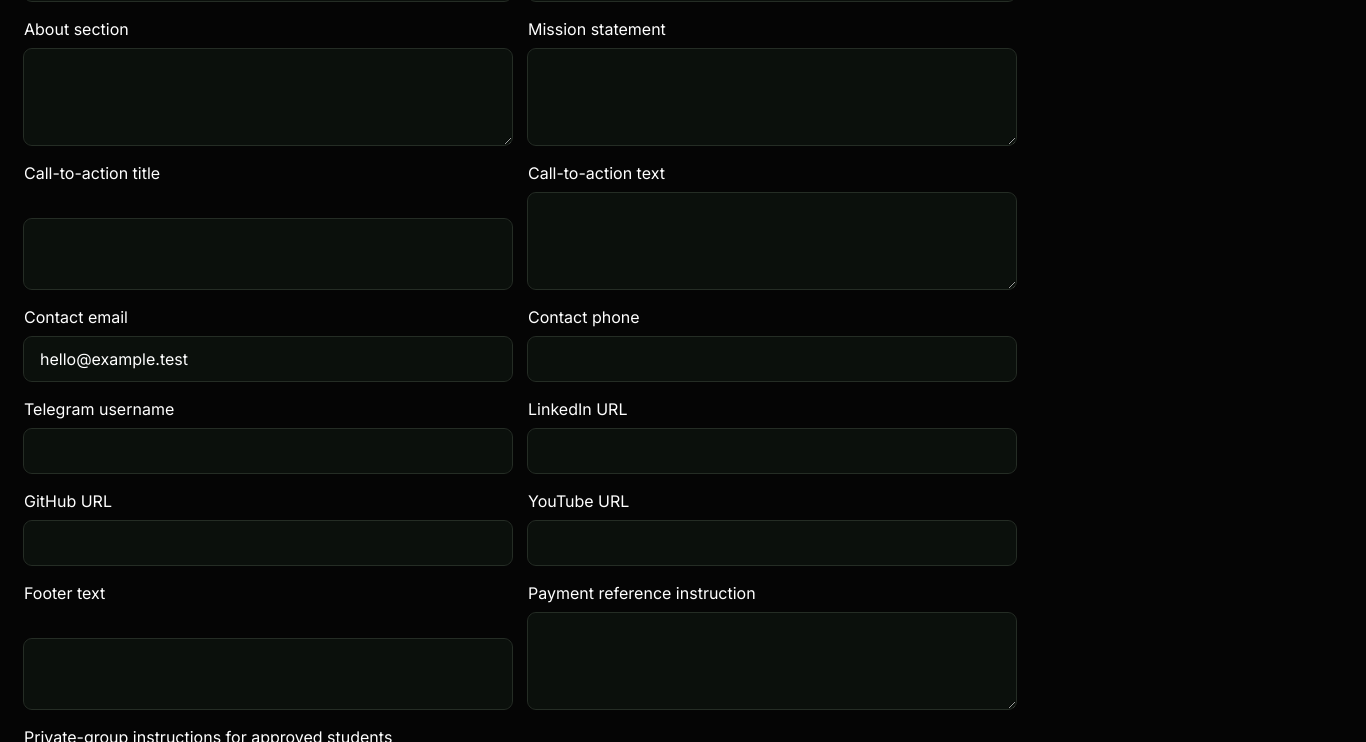
Test: merged admin management › shows management sections in /admin and saves website content
(page scrolled)
Replace the text in the field labelled "Contact email" with "admin@example.test" at (268, 359), box x1=24 y1=337 x2=512 y2=381
(page scrolled)
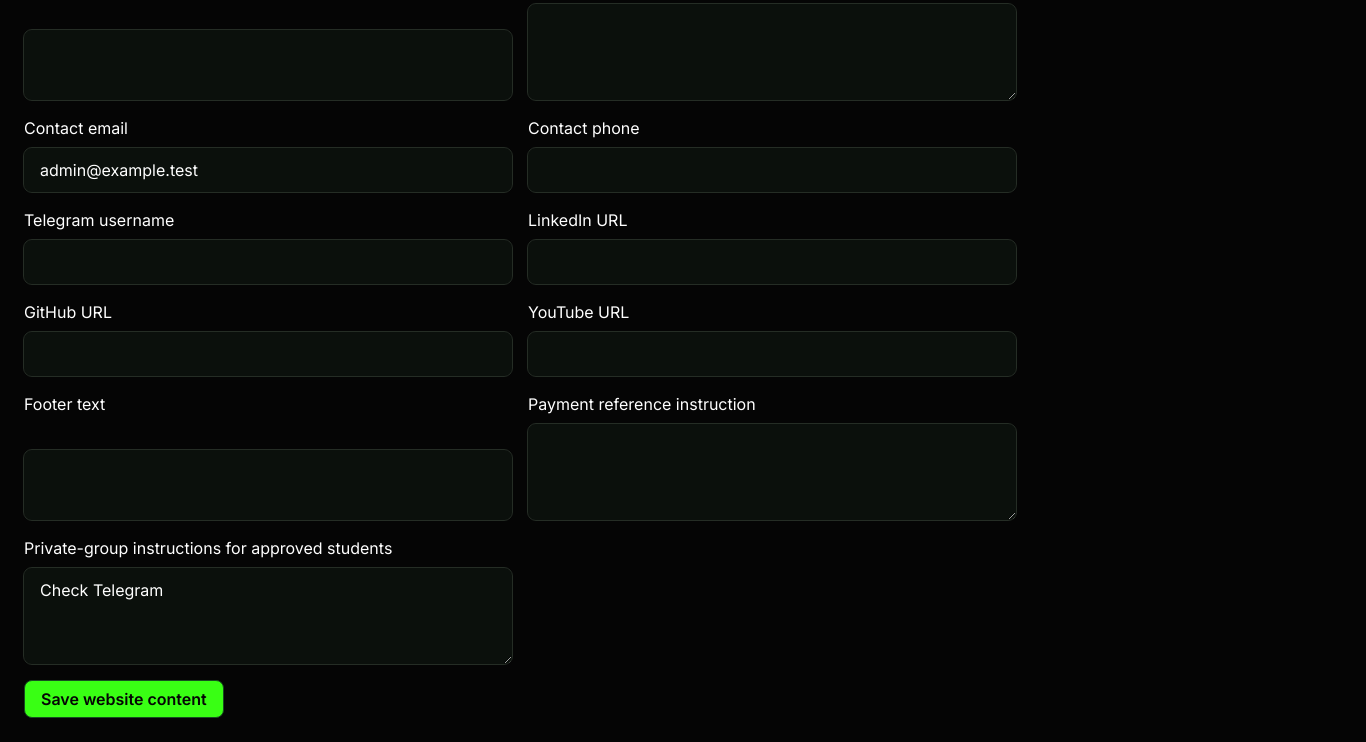
Click the button "Save website content" at (124, 699), box x1=24 y1=680 x2=224 y2=718
(page scrolled)
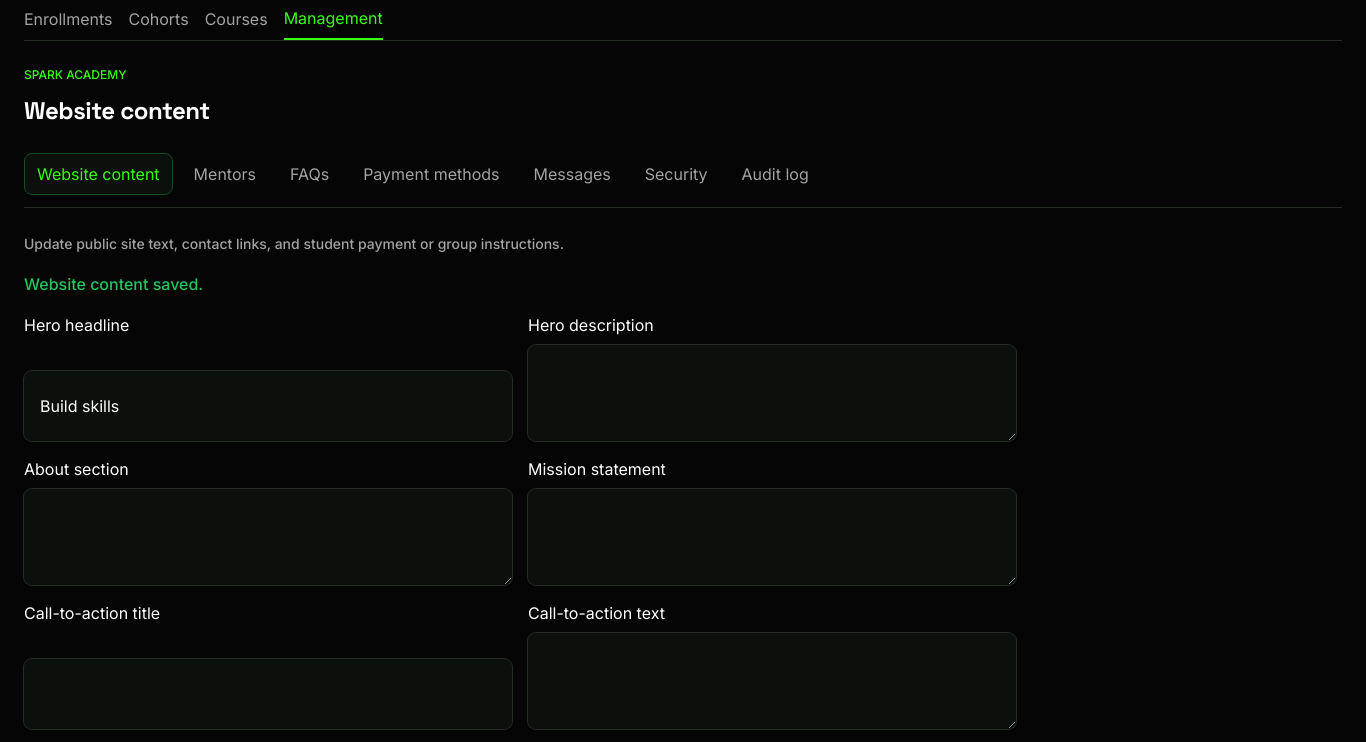
Result: the message reads "Website content saved." at x1=24 y1=274 x2=203 y2=294
